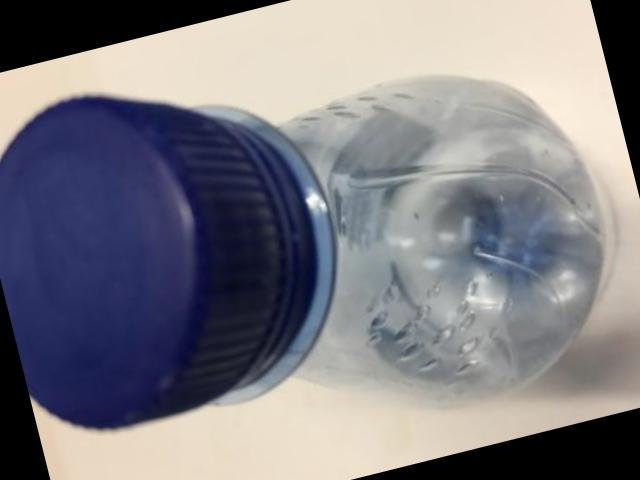plastic: (0, 75, 608, 427)
